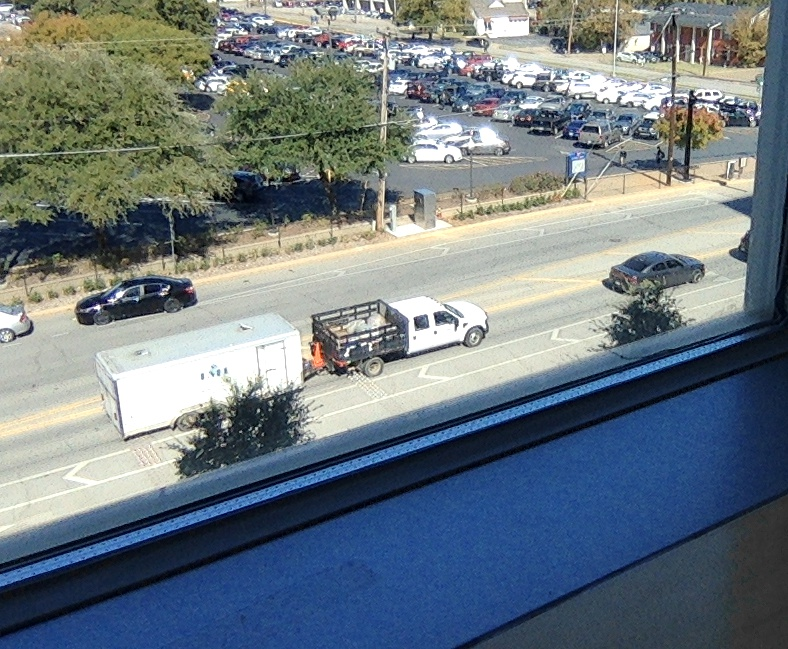car: (300, 300, 488, 383)
